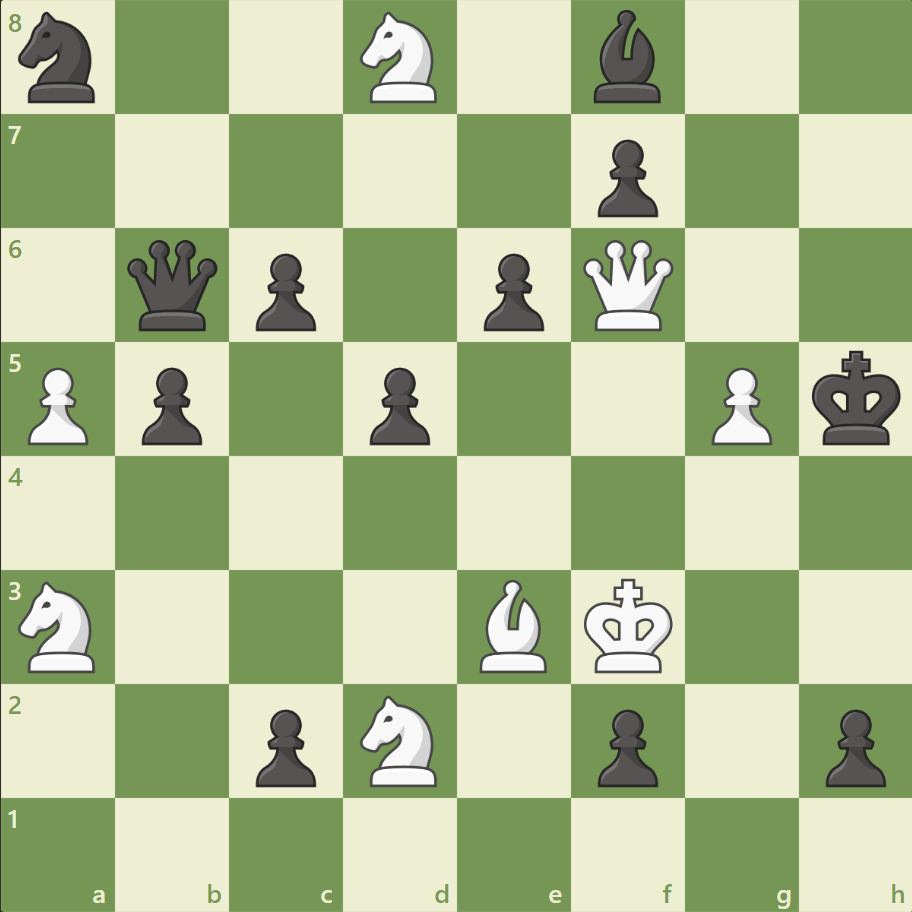B: (471, 574, 555, 676)
K: (579, 571, 679, 679)
N: (351, 7, 449, 110), (351, 688, 449, 791), (11, 575, 108, 677)
P: (20, 359, 95, 450), (701, 359, 776, 450)
Q: (578, 236, 677, 335)
b: (585, 6, 669, 109)
k: (806, 344, 906, 452)
n: (11, 7, 108, 110)
p: (247, 246, 322, 337), (474, 246, 549, 337), (133, 359, 208, 450), (247, 700, 322, 791), (588, 132, 662, 223), (361, 359, 435, 450), (588, 700, 662, 791), (815, 700, 889, 791)
q: (124, 236, 223, 335)
